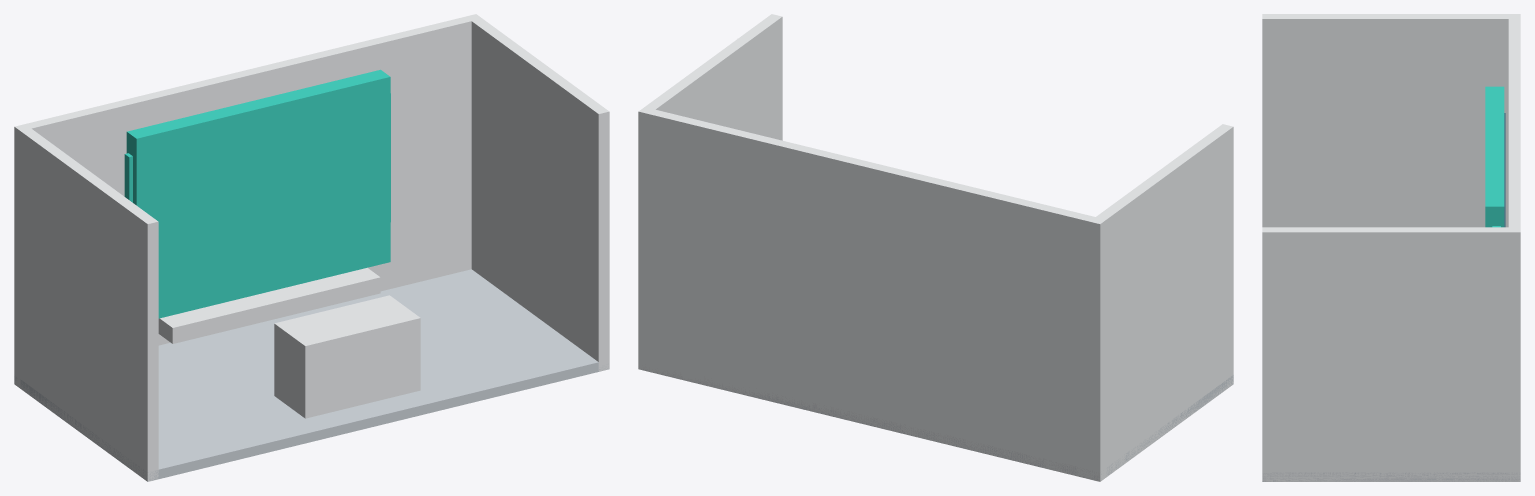
3 renders of one model, left to right at view 1: azimuth 30°, elevation 25°; view 2: azimuth 150°, elevation 25°; view 3: azimuth 270°, elevation 25°, orthographic. The views are drawn at different scales.
Parts seen in each view (by area): view 1: Exhibition Booth Concept; view 2: Exhibition Booth Concept; view 3: Exhibition Booth Concept.
Part boxes in pixels (bbox=[...]): Exhibition Booth Concept: bbox=[14, 14, 609, 481]; Exhibition Booth Concept: bbox=[638, 14, 1233, 481]; Exhibition Booth Concept: bbox=[1262, 14, 1520, 481].
Bounding box in the file's own units: 6 × 3.2 × 3.
